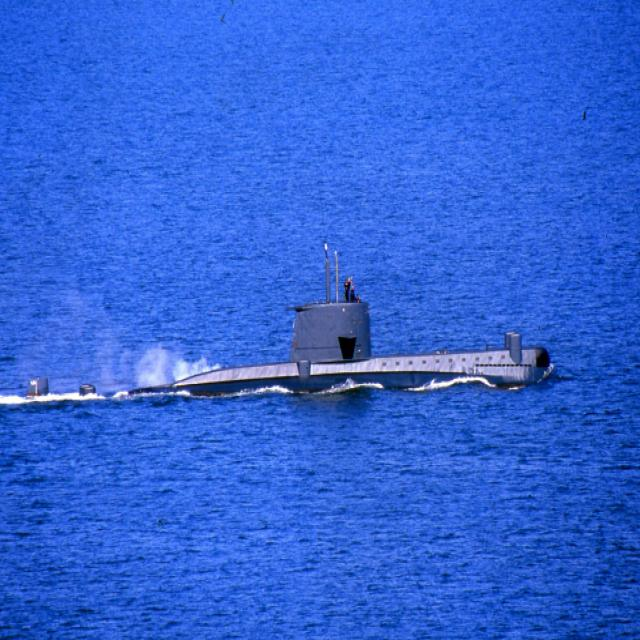submarine: (2, 286, 551, 384)
